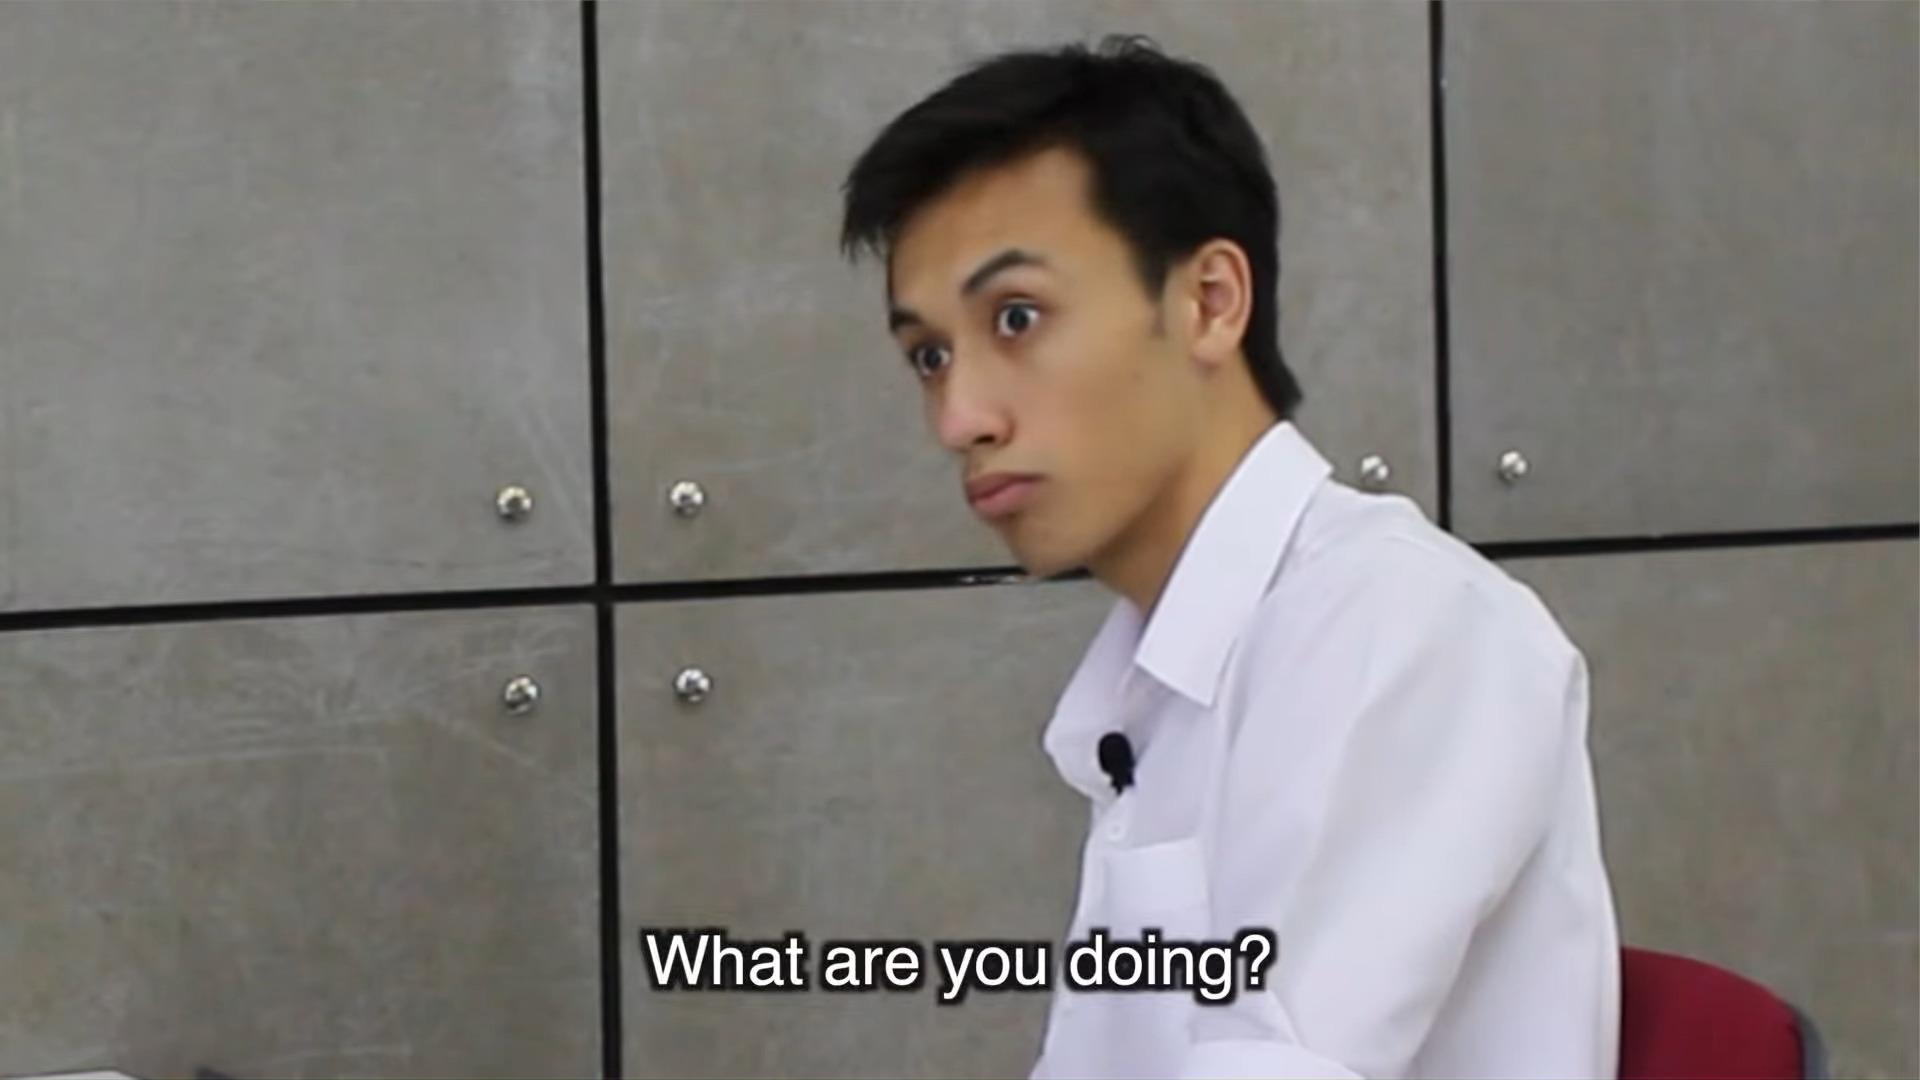cheating: (815, 21, 1651, 910)
